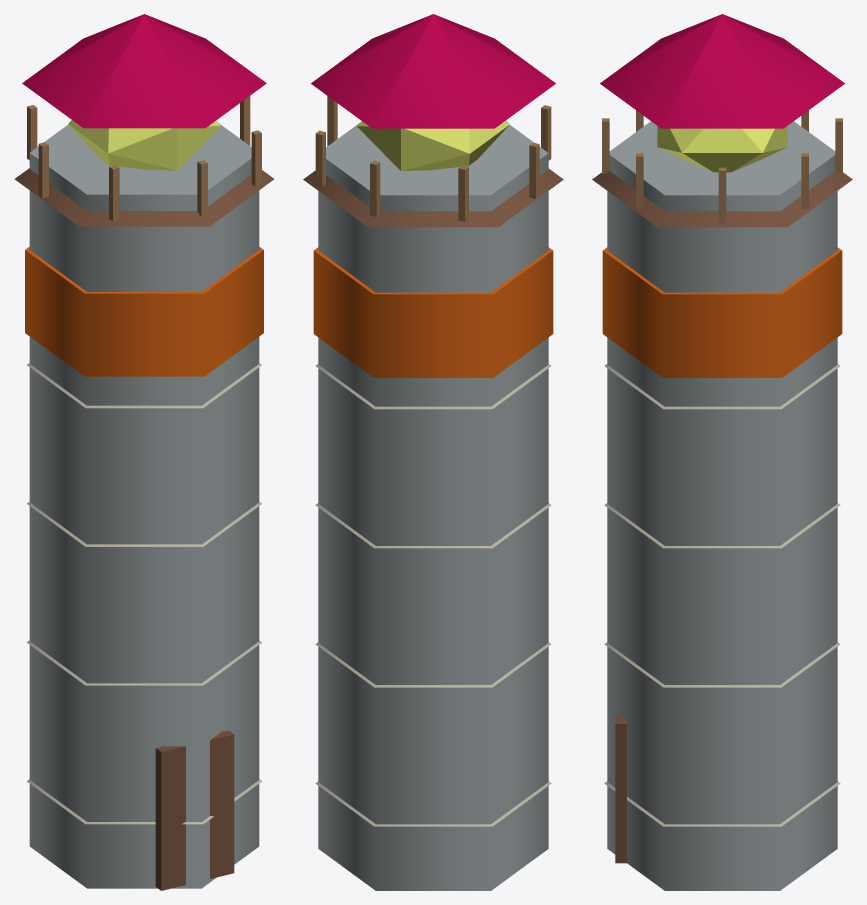
File: lighthouse.glb
The picture shows the model from 3 angles, left to right: view 1: azimuth 30°, elevation 25°; view 2: azimuth 150°, elevation 25°; view 3: azimuth 270°, elevation 25°; orthographic projection.
Bounding box in the file's own units: 3.14 × 12 × 3.4.
